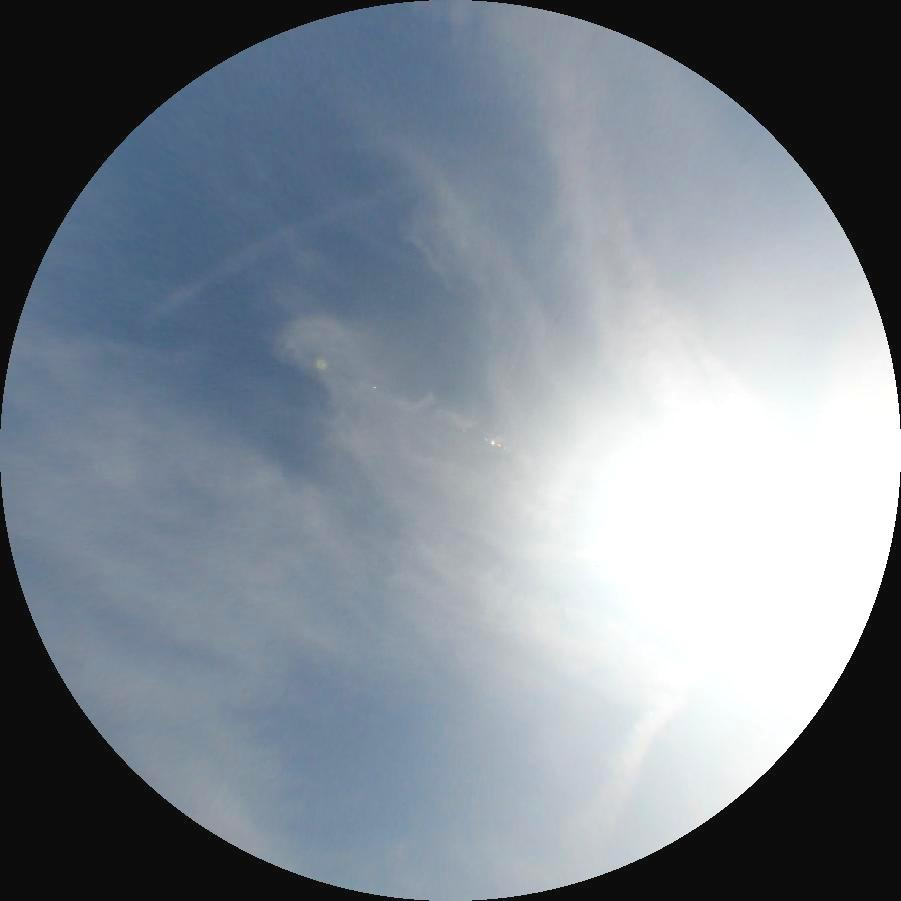contrail veryold: (541, 651, 719, 900), (136, 174, 408, 324)
sun: (589, 388, 869, 668)
